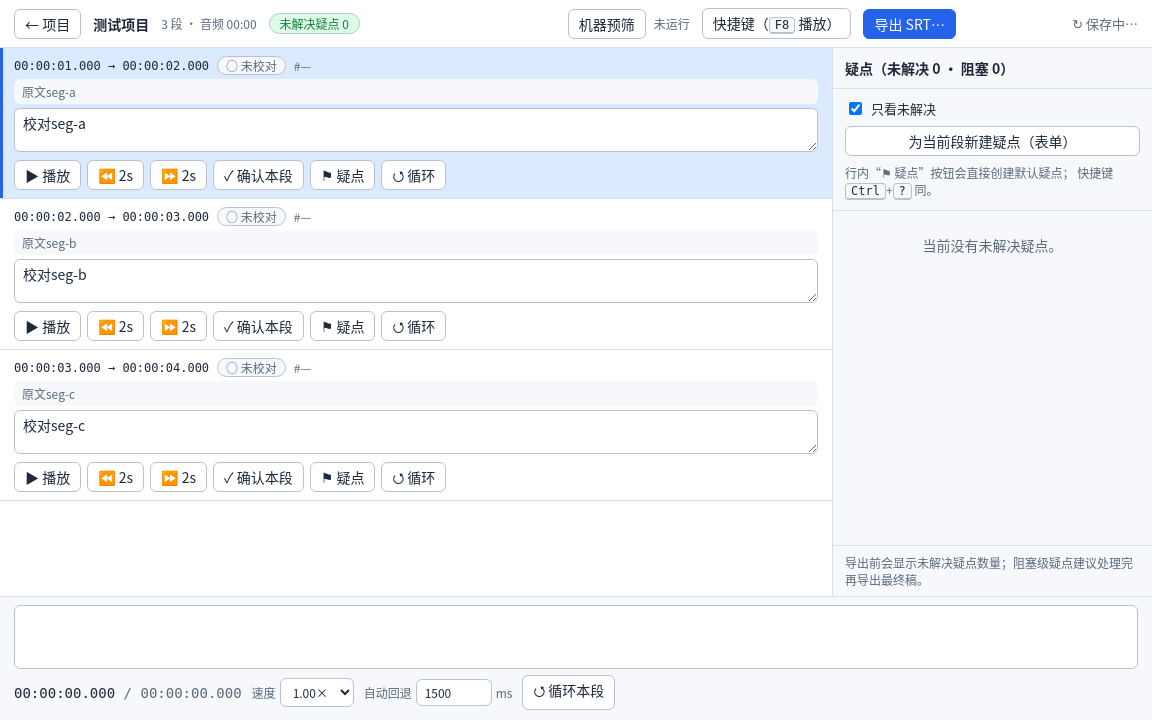
Test case: Workbench 行内确认 / Ctrl+Enter（第 10 轮审计） › 点击非当前行 B 的确认：B 被确认且 active=B；A 保持未校对；不自动播放、播放头在 B 段首
This screenshot has width=1152, height=720.
Step 1. Click the button "✓ 确认本段" below "原文seg-b" → click(258, 326), box [213,311,304,341]
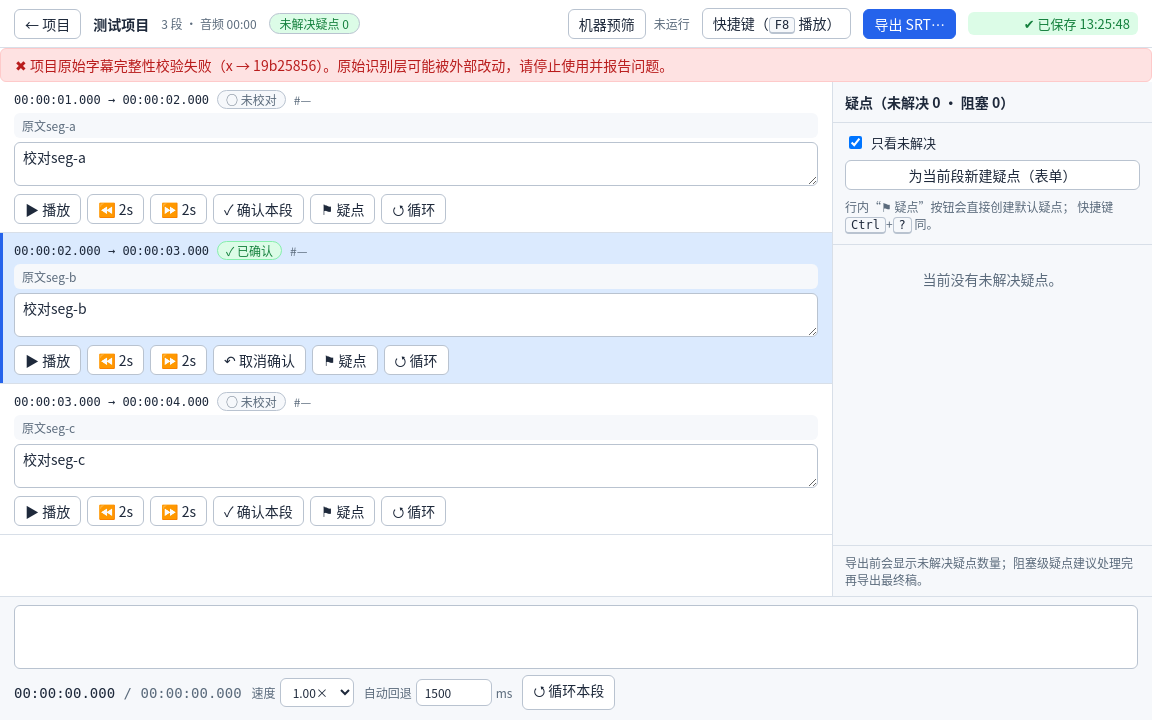
Expected: the button "✓ 确认本段" below "原文seg-a" is shown, [213,194,304,224]
Now the button "↶ 取消确认" is shown, box [213,345,306,375]
